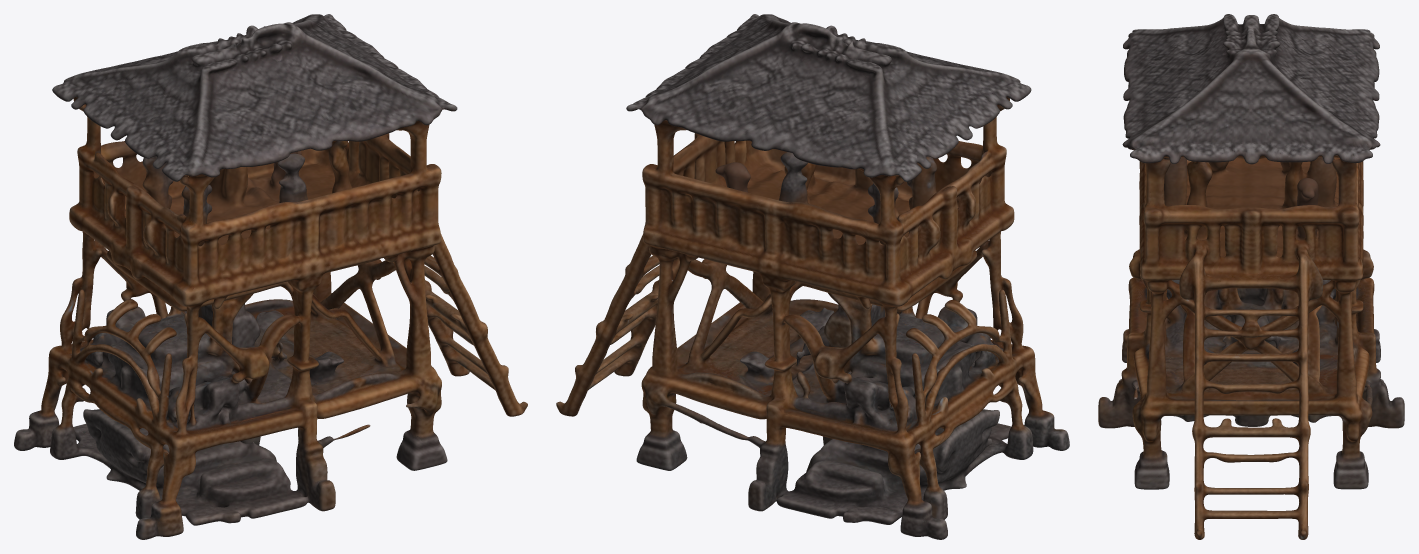
Rendered from Estrutura_md_9.glb.
3 renders of one model, left to right at view 1: azimuth 30°, elevation 25°; view 2: azimuth 150°, elevation 25°; view 3: azimuth 270°, elevation 25°, orthographic. The views are drawn at different scales.
Bounding box in the file's own units: 1.9 × 1.81 × 1.25.
1 material, 1 textured.
